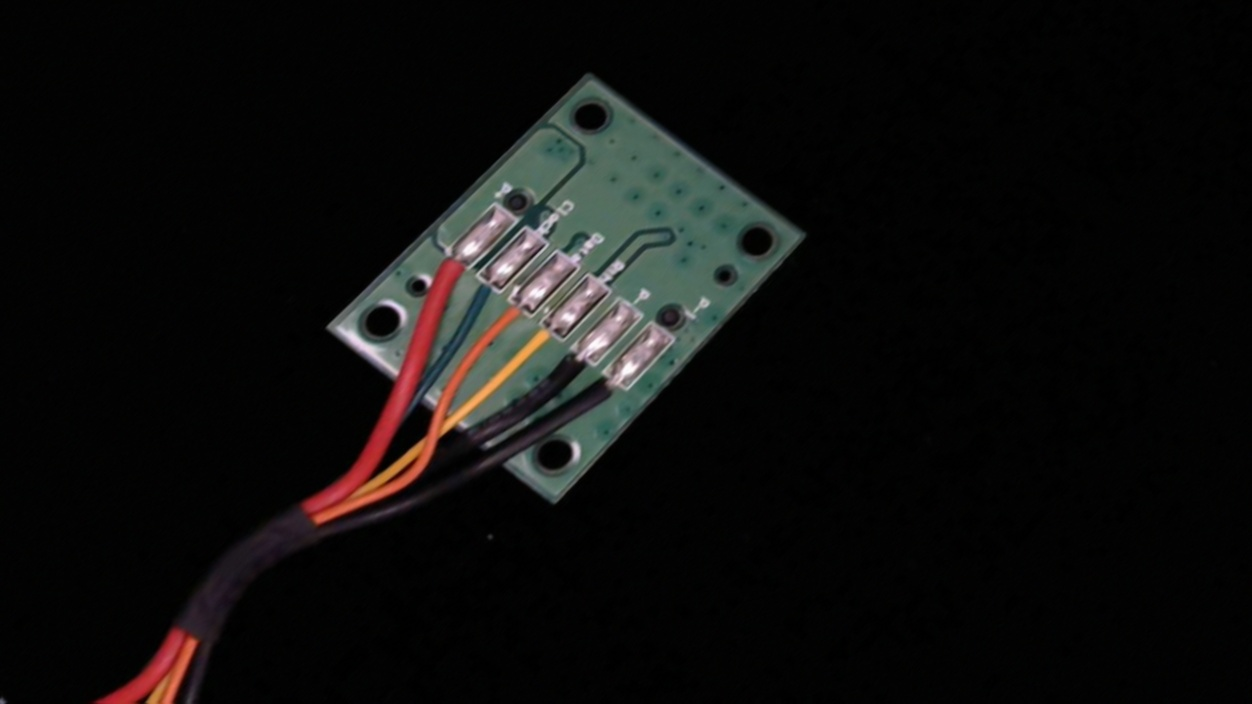Black: (518, 332, 610, 415)
Black1: (556, 361, 642, 438)
Green: (442, 260, 520, 327)
Orange: (459, 285, 548, 364)
Red: (396, 235, 487, 313)
Yellow: (486, 308, 579, 390)
